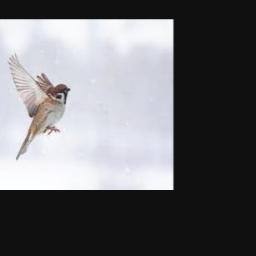Sparrow: (7, 53, 70, 160)
